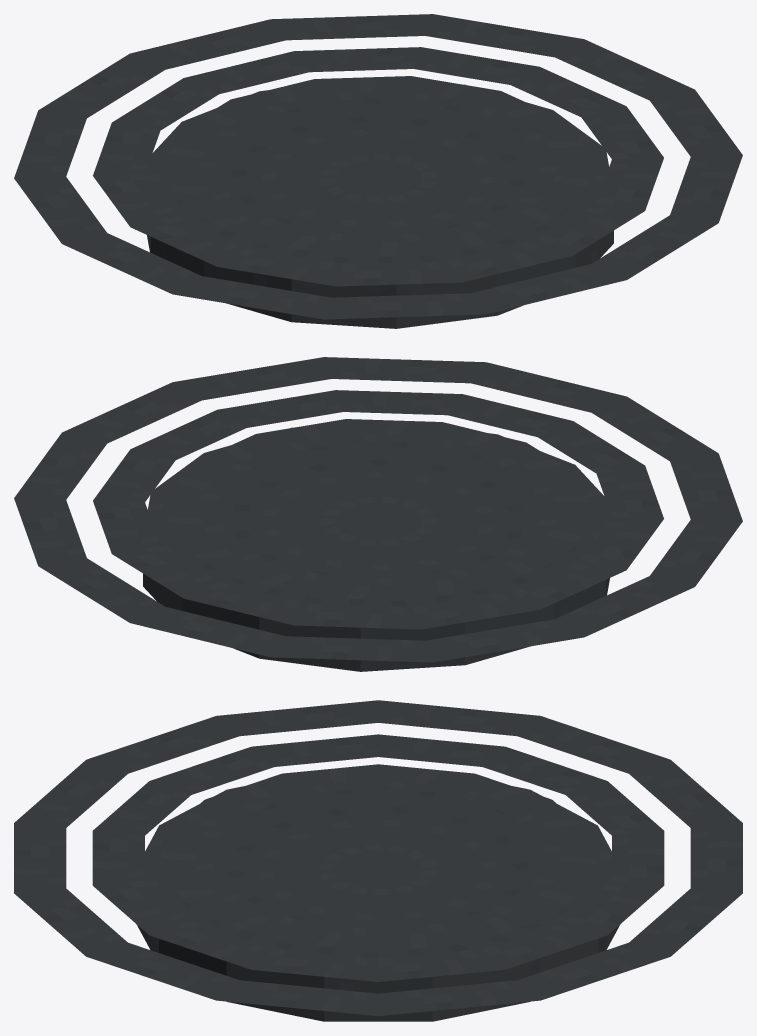
The model's file is drivebelt.glb.
The picture shows the model from 3 angles, top to bottom: view 1: azimuth 30°, elevation 25°; view 2: azimuth 150°, elevation 25°; view 3: azimuth 270°, elevation 25°; orthographic projection. The views are drawn at different scales.
Visible parts, largest first — view 1: block_belt core, block_rolled strap 4 (×3), block_rolled strap 11 (×3), block_rolled strap 5 (×3), block_rolled strap 12 (×3), block_rolled strap 3 (×3), block_rolled strap 10 (×3), block_rolled strap 6 (×3), block_rolled strap 13 (×3), block_rolled strap 2 (×3), block_rolled strap 9 (×3), block_rolled strap 8 (×3) (+3 smaller); view 2: block_belt core, block_rolled strap 9 (×3), block_rolled strap 2 (×3), block_rolled strap 8 (×3), block_rolled strap 1 (×3), block_rolled strap 3 (×3), block_rolled strap 10 (×3), block_rolled strap 7 (×3), block_rolled strap 0 (×3), block_rolled strap 11 (×3), block_rolled strap 4 (×3), block_rolled strap 5 (×3) (+3 smaller); view 3: block_belt core, block_rolled strap 6 (×3), block_rolled strap 7 (×3), block_rolled strap 0 (×3), block_rolled strap 13 (×3), block_rolled strap 1 (×3), block_rolled strap 12 (×3), block_rolled strap 5 (×3), block_rolled strap 8 (×3), block_rolled strap 3 (×3), block_rolled strap 10 (×3), block_rolled strap 2 (×3) (+3 smaller).
Part boxes in pixels (x1,y1,x2,y2): block_belt core: (145, 84, 613, 328); block_rolled strap 4 (×3): (324, 233, 485, 319); block_rolled strap 11 (×3): (271, 14, 432, 100); block_rolled strap 5 (×3): (173, 224, 353, 319); block_rolled strap 12 (×3): (403, 14, 583, 108); block_rolled strap 3 (×3): (427, 218, 626, 314); block_rolled strap 10 (×3): (130, 19, 329, 115); block_rolled strap 6 (×3): (62, 201, 284, 294); block_rolled strap 13 (×3): (472, 39, 694, 131); block_rolled strap 2 (×3): (491, 192, 718, 279); block_rolled strap 9 (×3): (39, 53, 265, 141); block_rolled strap 8 (×3): (14, 110, 224, 178); block_belt core: (143, 427, 611, 671); block_rolled strap 9 (×3): (271, 576, 432, 662); block_rolled strap 2 (×3): (324, 357, 485, 443); block_rolled strap 8 (×3): (403, 567, 583, 662); block_rolled strap 1 (×3): (173, 357, 353, 451); block_rolled strap 3 (×3): (427, 362, 626, 458); block_rolled strap 10 (×3): (130, 561, 329, 657); block_rolled strap 7 (×3): (472, 544, 694, 637); block_rolled strap 0 (×3): (62, 382, 284, 474); block_rolled strap 11 (×3): (38, 535, 265, 622); block_rolled strap 4 (×3): (491, 396, 717, 484); block_rolled strap 5 (×3): (532, 453, 742, 521); block_belt core: (136, 786, 620, 1021); block_rolled strap 6 (×3): (217, 700, 378, 793); block_rolled strap 7 (×3): (378, 700, 539, 793); block_rolled strap 0 (×3): (216, 922, 378, 1016); block_rolled strap 13 (×3): (378, 922, 540, 1015); block_rolled strap 1 (×3): (86, 902, 304, 1000); block_rolled strap 12 (×3): (452, 902, 670, 1000); block_rolled strap 5 (×3): (87, 716, 304, 813); block_rolled strap 8 (×3): (452, 716, 669, 813); block_rolled strap 3 (×3): (14, 823, 213, 893); block_rolled strap 10 (×3): (543, 823, 742, 893); block_rolled strap 2 (×3): (14, 874, 246, 956).
Bounding box in the file's own units: 0.1492 × 0.0139 × 0.1455.
Materials: 1 (1 with a texture image).
